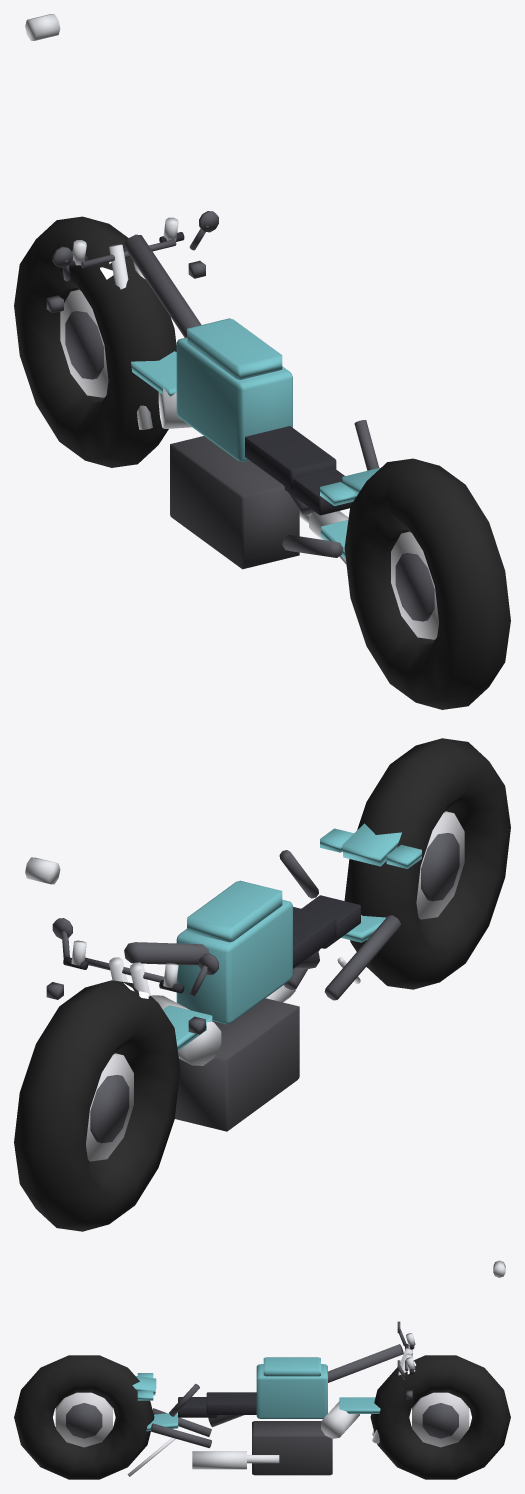
File: bike_pitbike.glb
3 renders of one model, top to bottom at view 1: azimuth 30°, elevation 25°; view 2: azimuth 150°, elevation 25°; view 3: azimuth 270°, elevation 25°, orthographic. The views are drawn at different scales.
Parts seen in each view (by area): view 1: Tire1, Tire0, Engine, Tank, TankTop, Seat, FrameMain, Hub_Rim1, Hub_Rim0, Rim1, Rim0, SeatRear (+3 smaller); view 2: Tire0, Tire1, Engine, Tank, TankTop, Hub_Rim0, Hub_Rim1, FrameMain, Seat, Swingarm_R, Rim1, Rim0 (+8 smaller); view 3: Tire1, Tire0, Engine, Tank, Rim0, Rim1, Seat, TankTop, FrameMain, Hub_Rim0, Hub_Rim1, ExhCan (+9 smaller).
Part boxes in pixels (x1,y1,x2,y2): Tire1: (344,458,510,709); Tire0: (14,216,176,467); Engine: (170,436,299,569); Tank: (176,337,292,461); TankTop: (187,318,282,379); Seat: (245,426,336,490); FrameMain: (124,234,314,514); Hub_Rim1: (395,553,434,621); Hub_Rim0: (65,311,103,379); Rim1: (391,531,438,639); Rim0: (60,289,108,397); SeatRear: (284,468,355,515); Tire0: (14,980,180,1231); Tire1: (344,738,510,989); Engine: (174,998,299,1131); Tank: (176,899,292,1024); TankTop: (187,880,282,942); Hub_Rim0: (90,1075,129,1143); Hub_Rim1: (421,833,459,901); FrameMain: (124,942,319,968); Seat: (293,907,336,968); Swingarm_R: (324,915,400,1000); Rim1: (416,811,464,919); Rim0: (86,1053,133,1161); Tire1: (14,1355,154,1479); Tire0: (370,1355,510,1479); Engine: (252,1421,332,1475); Tank: (256,1364,327,1418); Rim0: (412,1392,469,1447); Rim1: (55,1392,112,1447); Seat: (206,1392,256,1414); TankTop: (263,1357,320,1376); FrameMain: (208,1344,403,1427); Hub_Rim0: (422,1403,458,1438); Hub_Rim1: (66,1403,102,1438); ExhCan: (192,1451,246,1469).
Size of the model in its own units: 0.4871 by 1.14 by 2.37.
